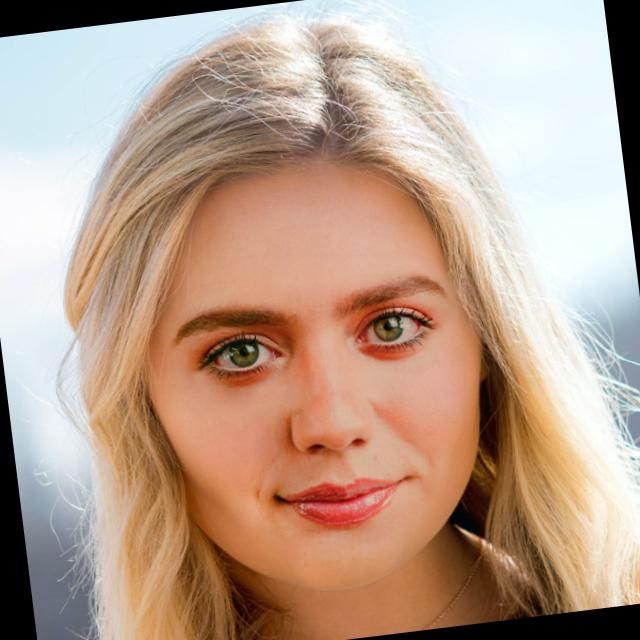face: (90, 119, 570, 616)
